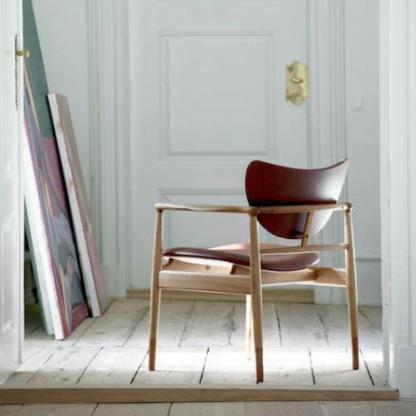chair: (144, 149, 377, 390)
door: (88, 0, 346, 305)
